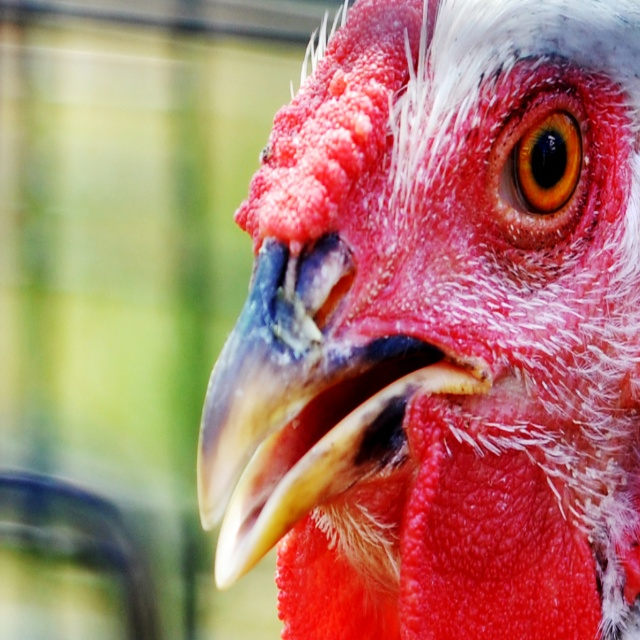Chicken: (197, 0, 640, 640)
